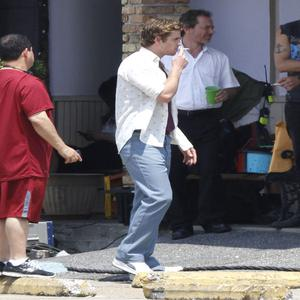cigarette: (175, 46, 191, 52)
